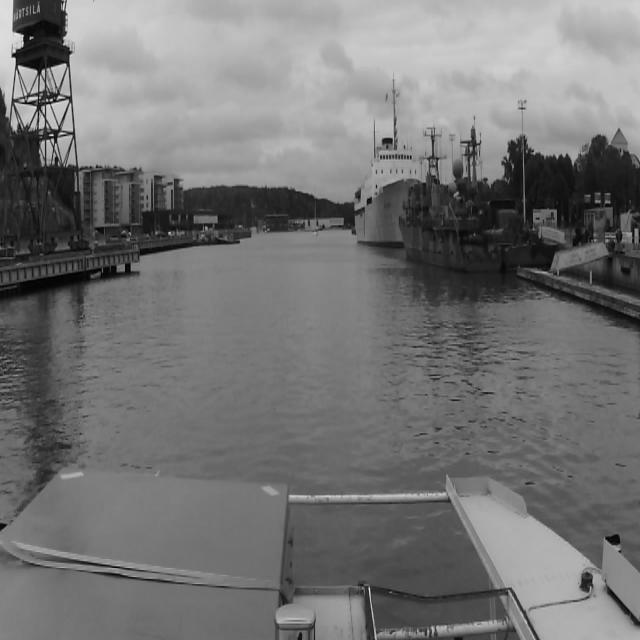ship: (399, 122, 507, 274), (354, 72, 402, 250), (312, 190, 318, 237)
